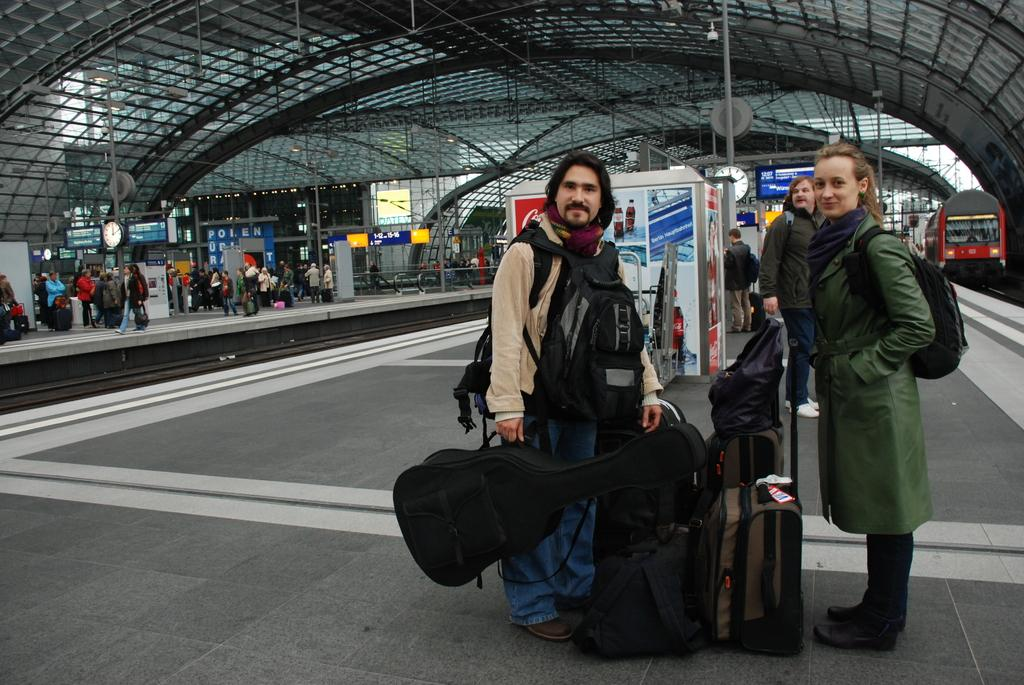Luggage-and-bags: (392, 421, 707, 594), (456, 224, 641, 431), (698, 334, 801, 647), (585, 409, 715, 570), (841, 226, 971, 380), (772, 211, 797, 267), (47, 295, 73, 331), (131, 300, 148, 327), (246, 301, 254, 312)
